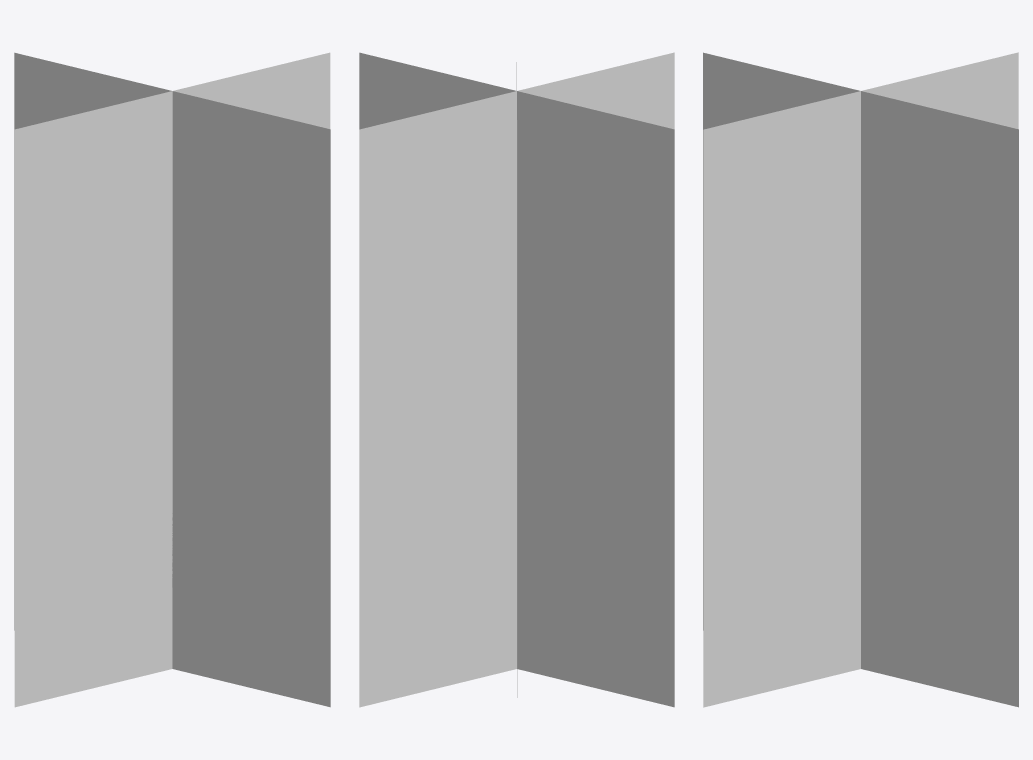
File: E3D-Squaresheet55.FBX
3 views of the same model, side by side, from view 1: azimuth 30°, elevation 25°; view 2: azimuth 150°, elevation 25°; view 3: azimuth 270°, elevation 25° (orthographic).
Parts seen in each view (by area): view 1: Plane003; view 2: Plane003; view 3: Plane003.
Part boxes in pixels (x1,y1,x2,y2): Plane003: [14, 52, 330, 707]; Plane003: [359, 52, 674, 707]; Plane003: [703, 52, 1018, 707].
Size of the model in its own units: 40 by 34.67 by 70.
Materials: 1 (1 with a texture image).
